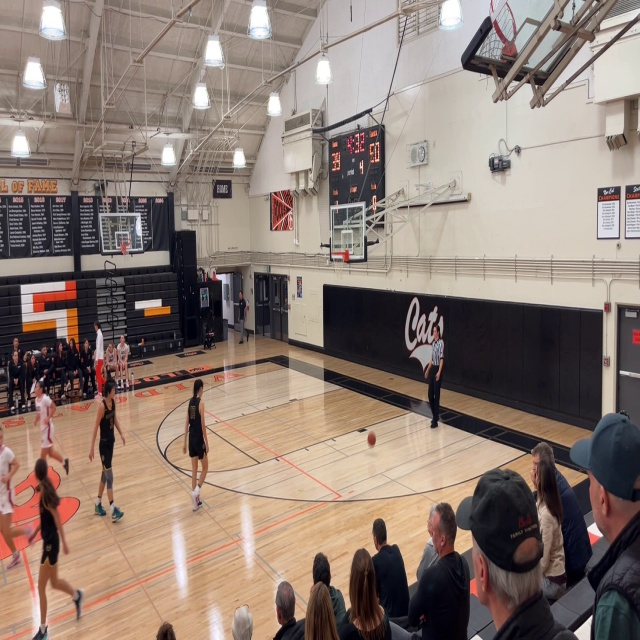Basketball: (367, 431, 376, 446)
